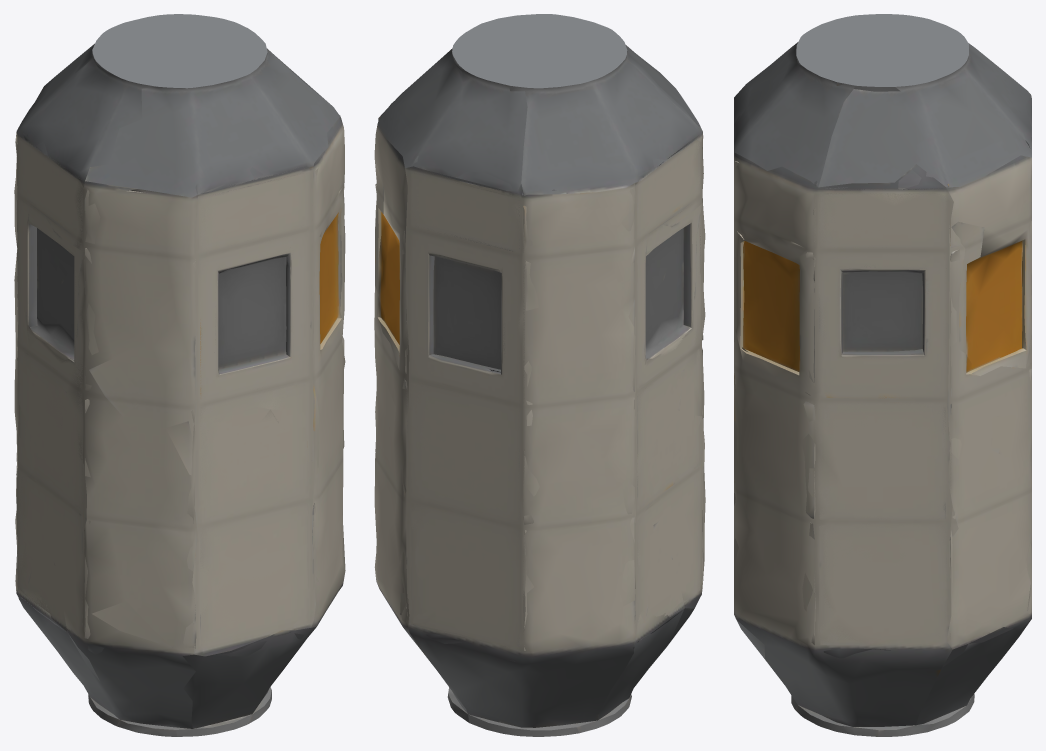
File: starter_hull.glb
3 views of the same model, side by side, from view 1: azimuth 30°, elevation 25°; view 2: azimuth 150°, elevation 25°; view 3: azimuth 270°, elevation 25° (orthographic).
Parts seen in each view (by area): view 1: part; view 2: part; view 3: part.
Boxes of the visible parts, x1,y1,x2,y2 form: part: [14, 14, 345, 736]; part: [374, 14, 705, 736]; part: [734, 14, 1031, 736].
Size of the model in its own units: 2.5 by 6 by 2.5.
2 materials, 1 textured.
